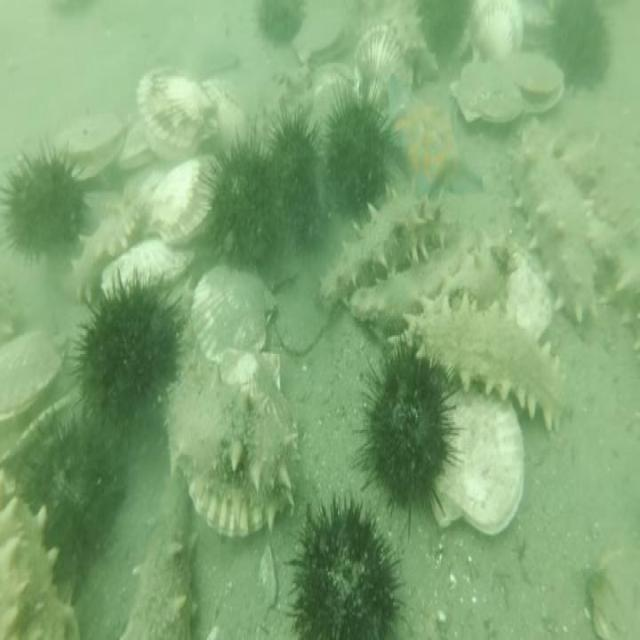echinus: (350, 336, 465, 539), (73, 264, 188, 431), (20, 406, 127, 575), (286, 488, 400, 640), (200, 120, 283, 272), (260, 95, 329, 256), (1, 141, 89, 267), (322, 79, 399, 220), (545, 0, 611, 100), (414, 0, 474, 63), (258, 0, 306, 46)
holothurian: (405, 288, 570, 439), (166, 358, 300, 516), (316, 179, 464, 319), (508, 130, 602, 333), (0, 468, 84, 640), (118, 468, 201, 640), (348, 242, 468, 338), (71, 186, 146, 310), (589, 210, 640, 364), (433, 227, 511, 313), (389, 9, 441, 87), (558, 126, 609, 196), (0, 252, 16, 344)
scallop: (183, 349, 301, 542), (429, 384, 527, 539), (188, 259, 278, 370), (135, 59, 221, 164), (140, 152, 222, 251), (0, 322, 71, 428), (99, 234, 198, 305), (51, 110, 129, 186), (353, 22, 415, 114), (585, 539, 640, 640), (447, 59, 525, 130), (197, 73, 248, 166), (289, 2, 357, 68), (510, 54, 567, 115), (471, 0, 524, 62), (121, 117, 152, 179), (522, 0, 554, 52)
starfish: (380, 73, 486, 202)
